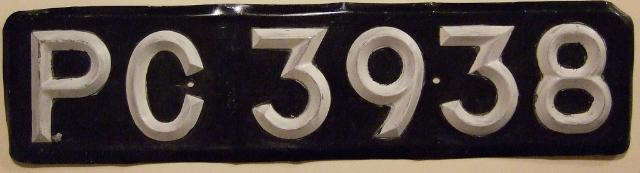License_Plate: (3, 3, 637, 173)
